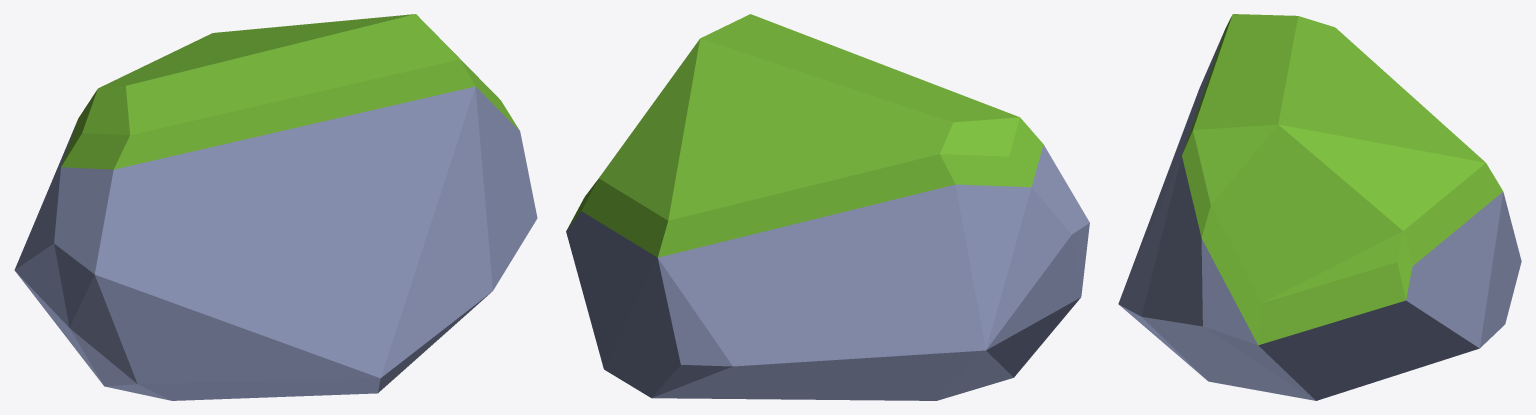
Rendered from Stone_4_1.fbx.
3 views of the same model, side by side, from view 1: azimuth 30°, elevation 25°; view 2: azimuth 150°, elevation 25°; view 3: azimuth 270°, elevation 25° (orthographic). The views are drawn at different scales.
Parts seen in each view (by area): view 1: Stone_4_1; view 2: Stone_4_1; view 3: Stone_4_1.
Boxes of the visible parts, left/top/right/bottom form: Stone_4_1: left=14, top=14, right=537, bottom=400; Stone_4_1: left=566, top=14, right=1089, bottom=400; Stone_4_1: left=1118, top=14, right=1521, bottom=400.
Bounding box in the file's own units: 1.16 × 0.7788 × 0.98.
